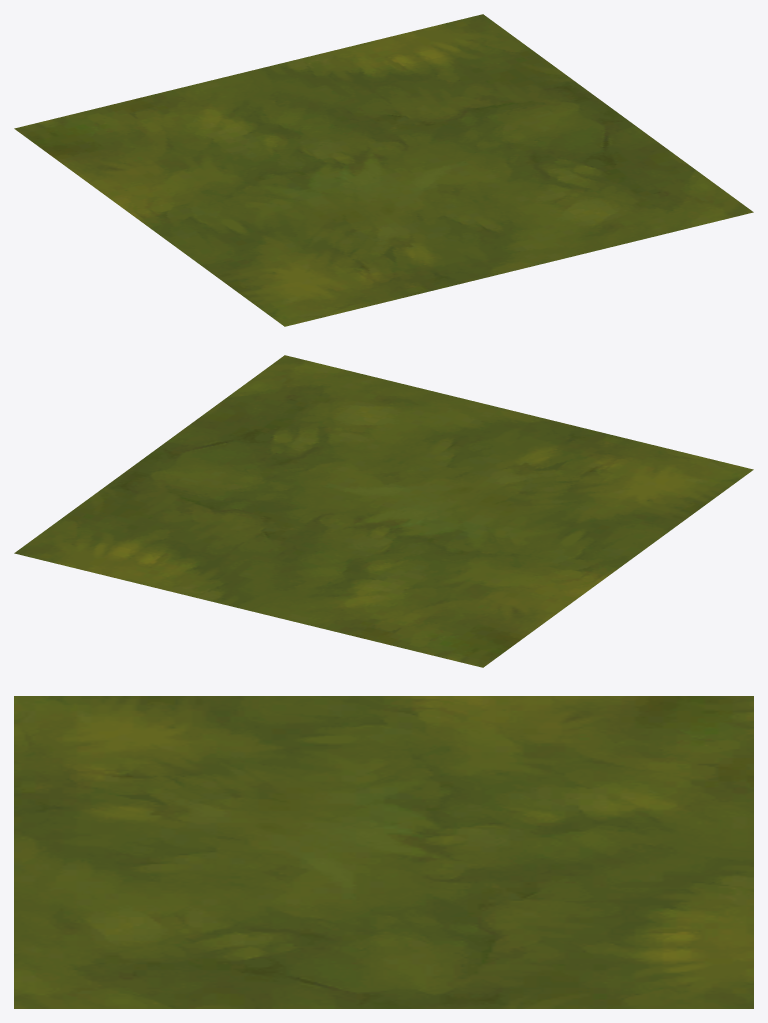
Rendered from grass_floor_02blender.fbx.
3 renders of one model, top to bottom at view 1: azimuth 30°, elevation 25°; view 2: azimuth 150°, elevation 25°; view 3: azimuth 270°, elevation 25°, orthographic. The views are drawn at different scales.
Visible parts, largest first — view 1: obj0.163; view 2: obj0.163; view 3: obj0.163.
Part boxes in pixels (x1,y1,x2,y2): obj0.163: [14, 14, 753, 326]; obj0.163: [14, 355, 753, 667]; obj0.163: [14, 696, 753, 1008].
Bounding box in the file's own units: 4.15 × 3.01e-06 × 4.15.
